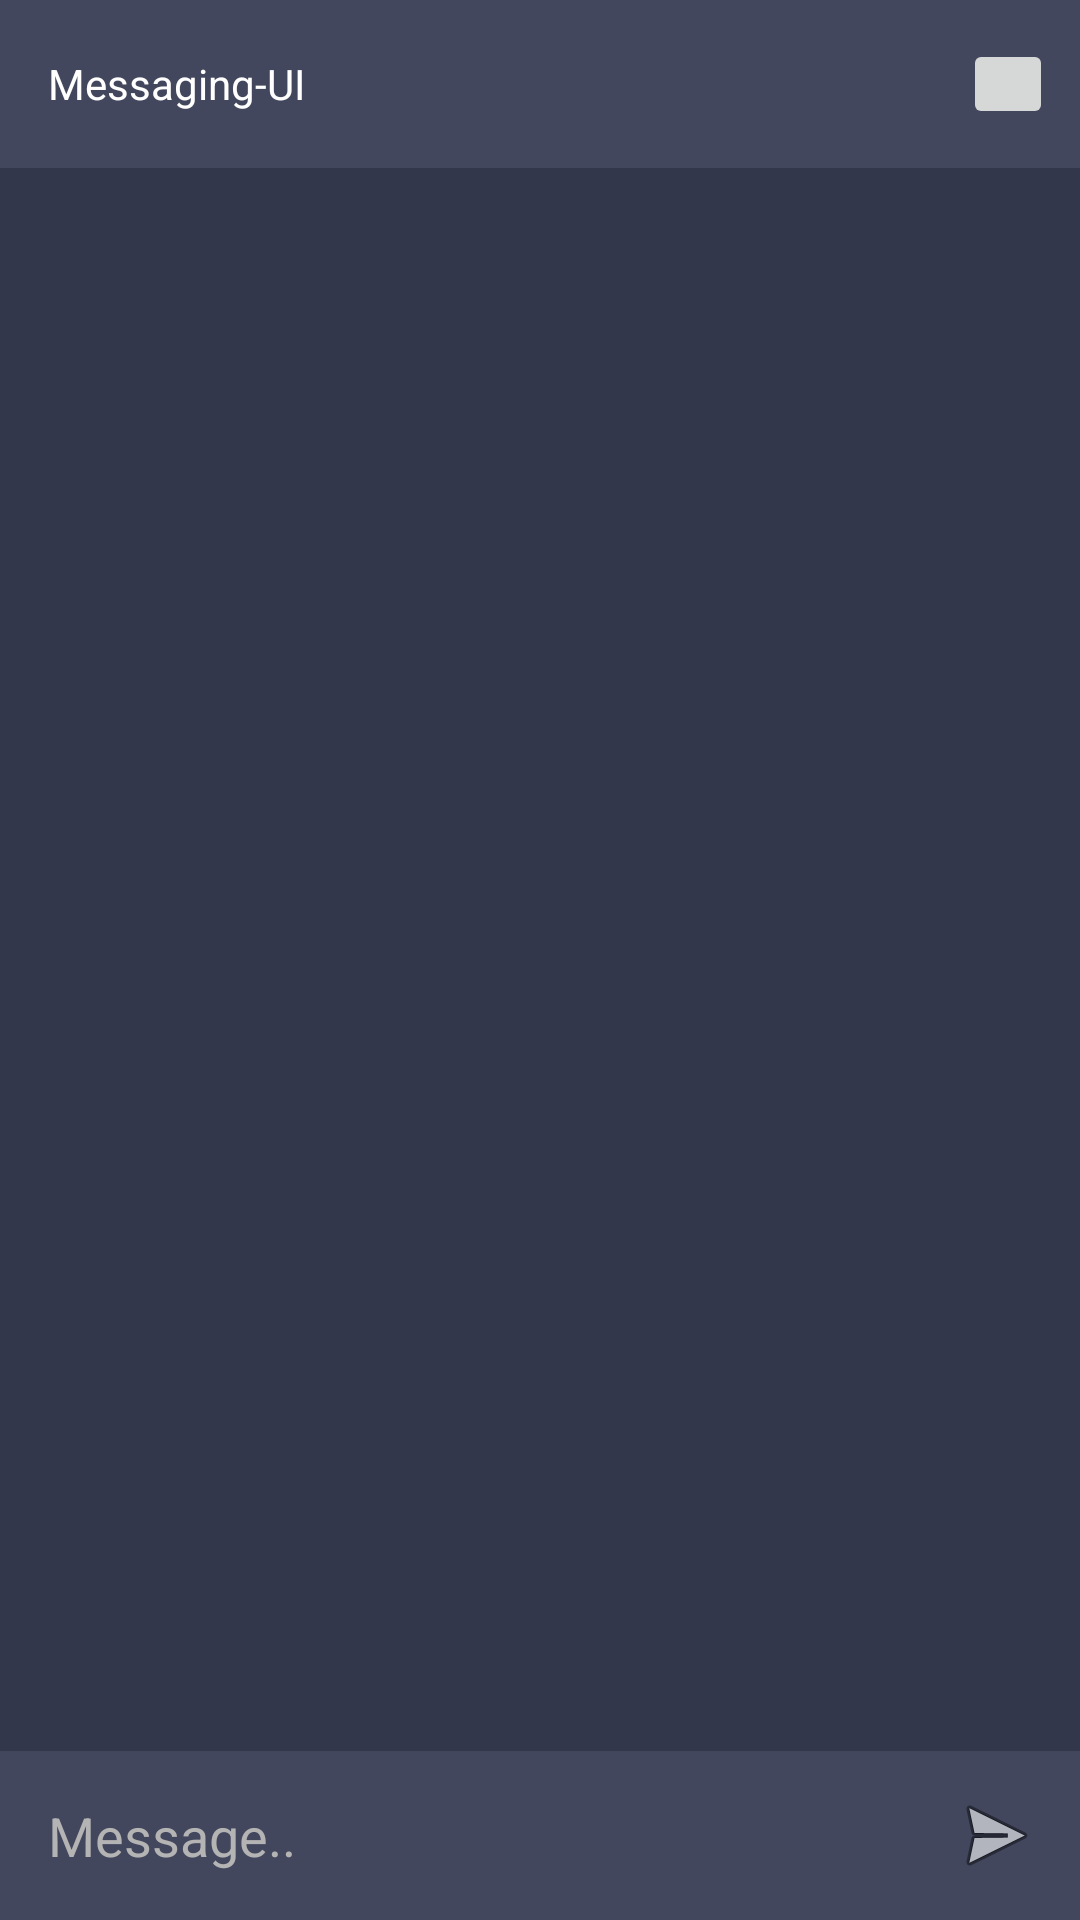

Icon click points for this 1080px×1920px phone screenshot, format (x=x, y=y):
Send: (x=997, y=1835)
